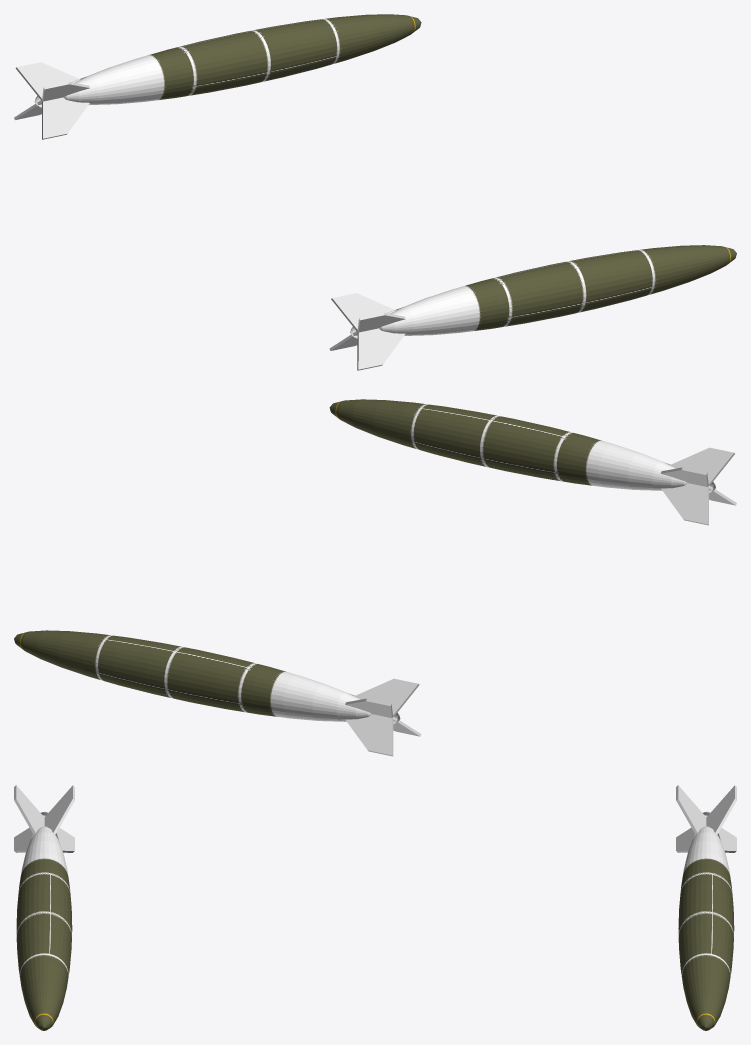
The model's file is rafalegbu3114.glb.
3 views of the same model, one above another, from view 1: azimuth 30°, elevation 25°; view 2: azimuth 150°, elevation 25°; view 3: azimuth 270°, elevation 25° (orthographic). The views are drawn at different scales.
Visible parts, largest first — view 1: 立方体.004, 立方体.001; view 2: 立方体.001, 立方体.004; view 3: 立方体.001, 立方体.004.
Boxes of the visible parts, x1,y1,x2,y2 form: 立方体.004: (329, 245, 736, 370); 立方体.001: (14, 14, 421, 139); 立方体.001: (14, 630, 421, 756); 立方体.004: (329, 399, 736, 525); 立方体.001: (676, 785, 736, 1030); 立方体.004: (14, 785, 74, 1030).
Size of the model in its own units: 3.81 by 0.5456 by 5.79.
1 material, 1 textured.
